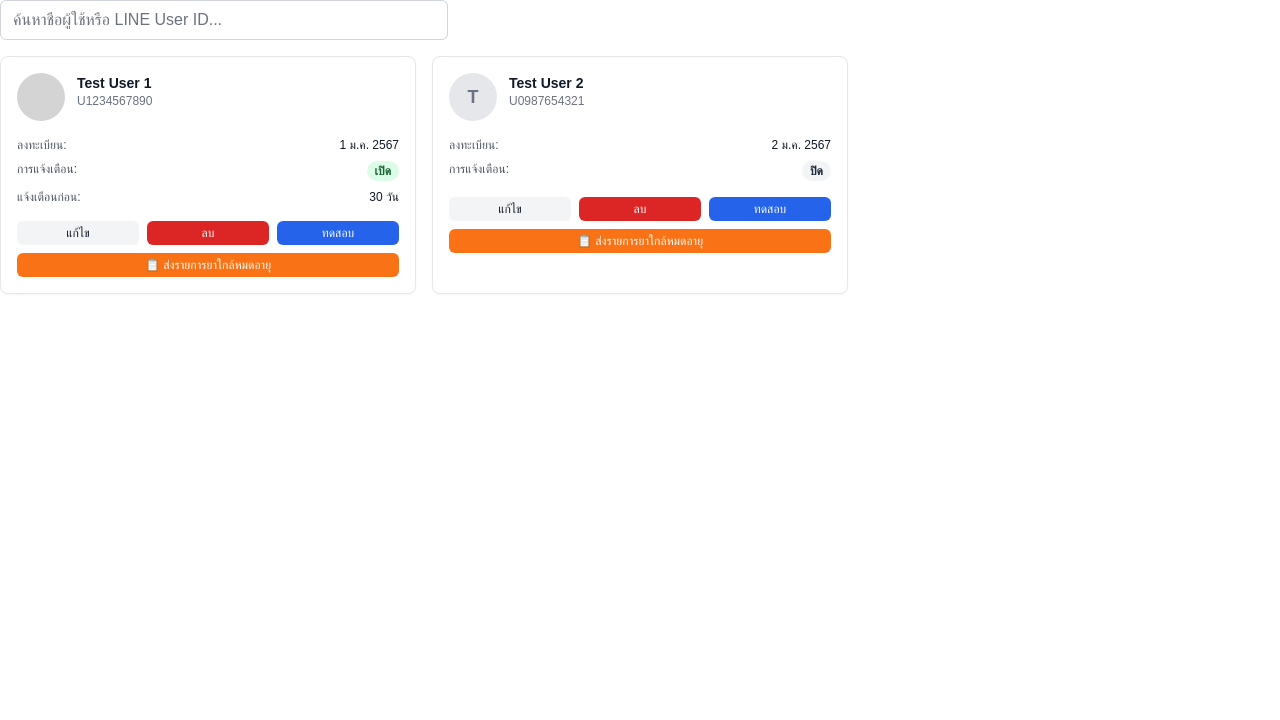
Test: LineUserList › Action Buttons (Requirements 4.1, 4.3, 5.1) › should open delete confirmation dialog when clicking delete button (Requirement 4.3)
This screenshot has width=1280, height=720.
Click the button "ลบ" below "แจ้งเตือนก่อน:": (208,233) [147,221,269,245]
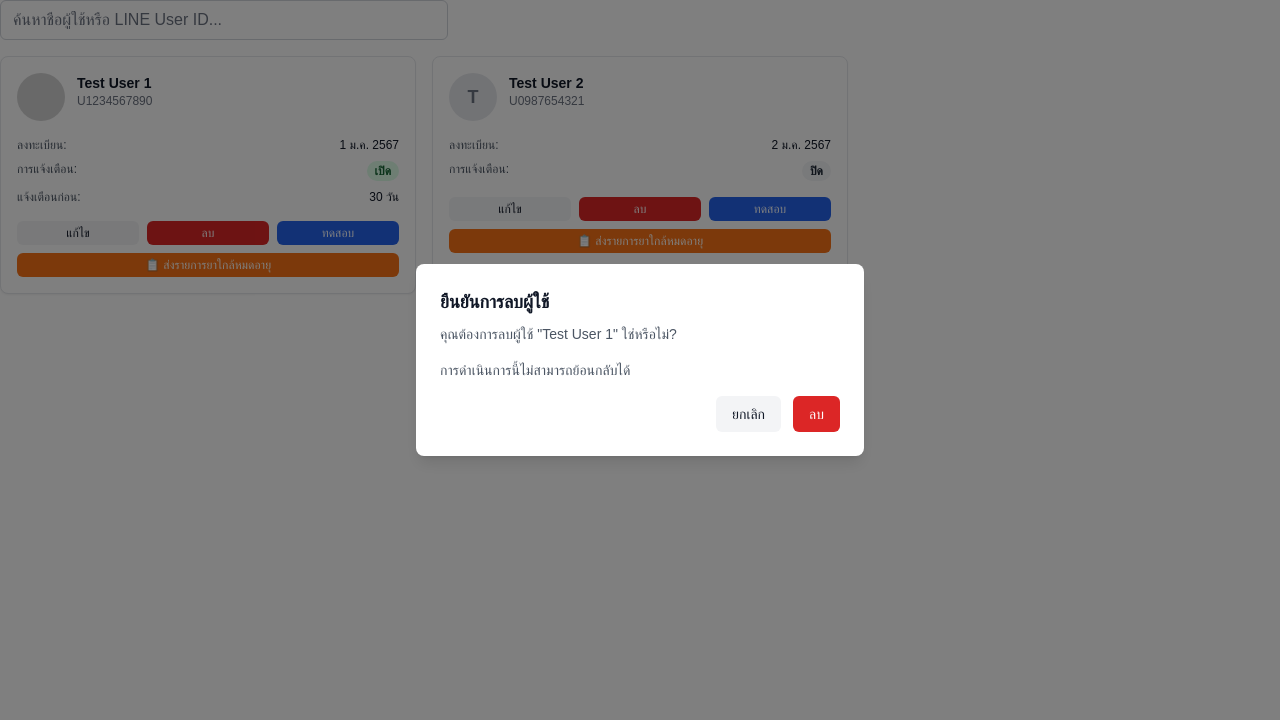
Now the heading "ยืนยันการลบผู้ใช้" is shown, box [440,292,549,312]
Now the text "คุณต้องการลบผู้ใช้ \"Test User 1\" ใช่หรือไม่?" is shown, box [440,326,677,342]
